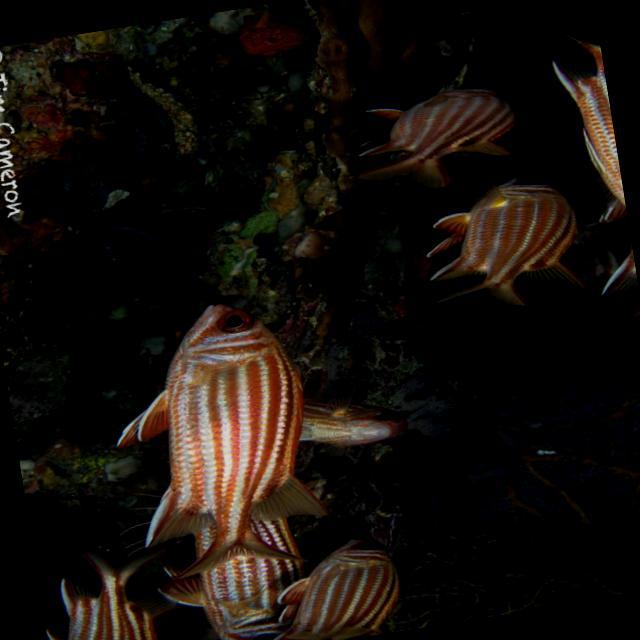Asker Baligi: (81, 284, 352, 607), (328, 52, 539, 220), (404, 160, 600, 324), (247, 523, 428, 640)
